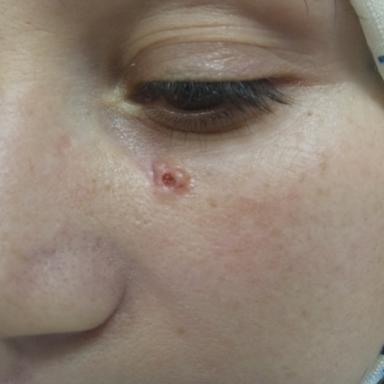basal-cell-carcinoma: (152, 159, 190, 195)
